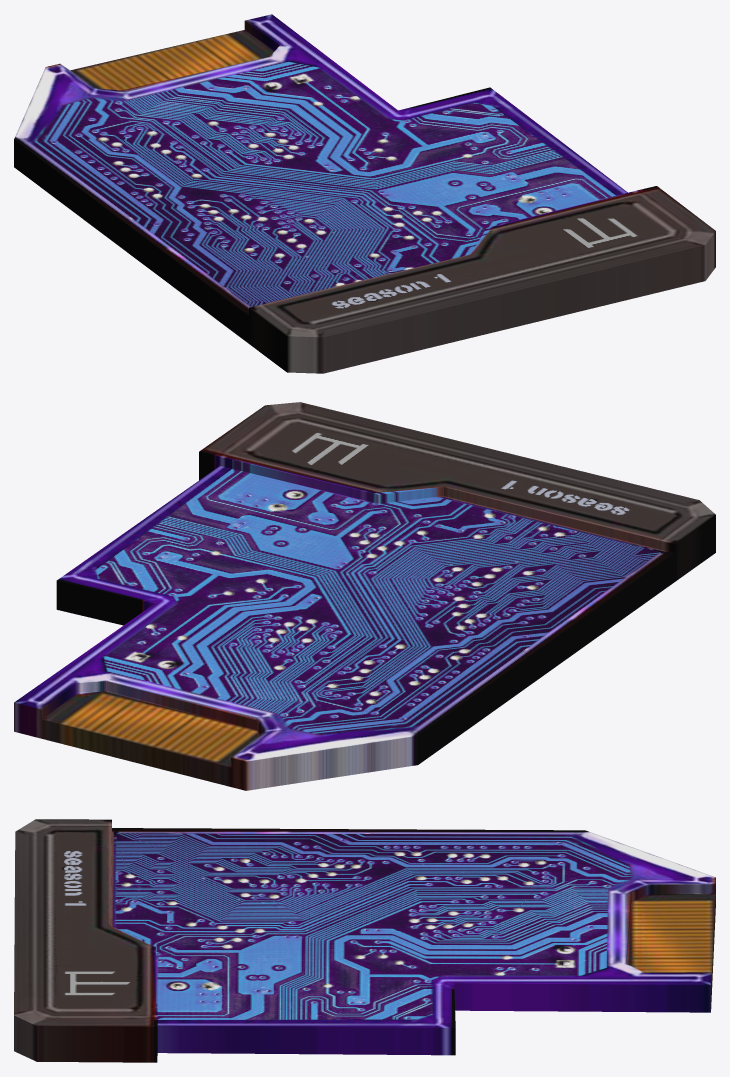
File: keycard.glb
The picture shows the model from 3 angles, top to bottom: view 1: azimuth 30°, elevation 25°; view 2: azimuth 150°, elevation 25°; view 3: azimuth 270°, elevation 25°; orthographic projection. The views are drawn at different scales.
Visible parts, largest first — view 1: keycard; view 2: keycard; view 3: keycard.
Boxes of the visible parts, box(x1,y1,x2,y2) form: keycard: box(14, 14, 715, 373); keycard: box(14, 402, 715, 790); keycard: box(14, 819, 715, 1062).
Size of the model in its own units: 0.6139 by 0.0494 by 0.8768.
1 material, 1 textured.
